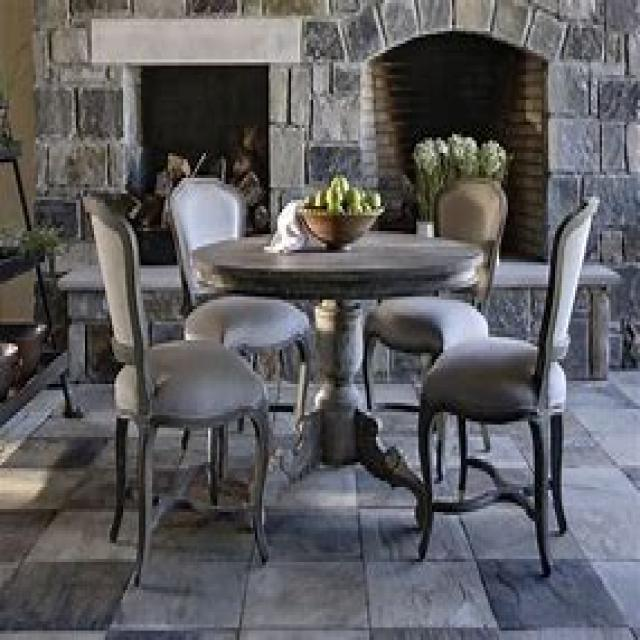chair: (80, 190, 268, 584), (414, 193, 600, 578), (360, 178, 508, 478), (166, 175, 313, 471)
table: (191, 225, 484, 537)
